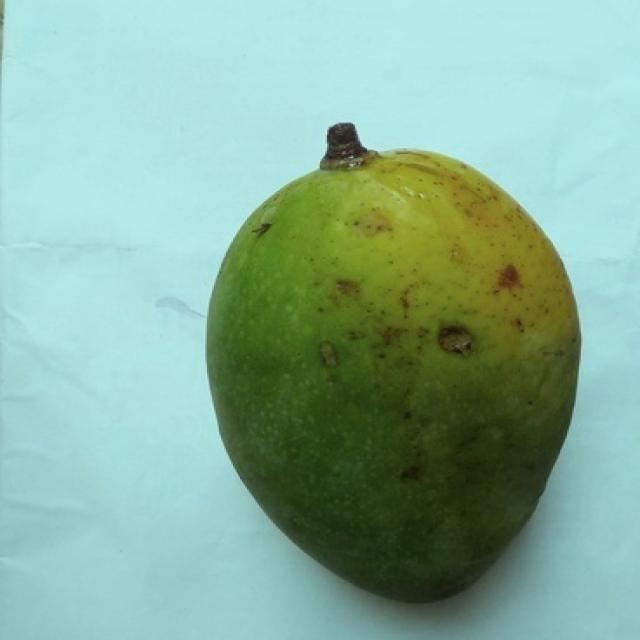Mango: (207, 124, 579, 602)
